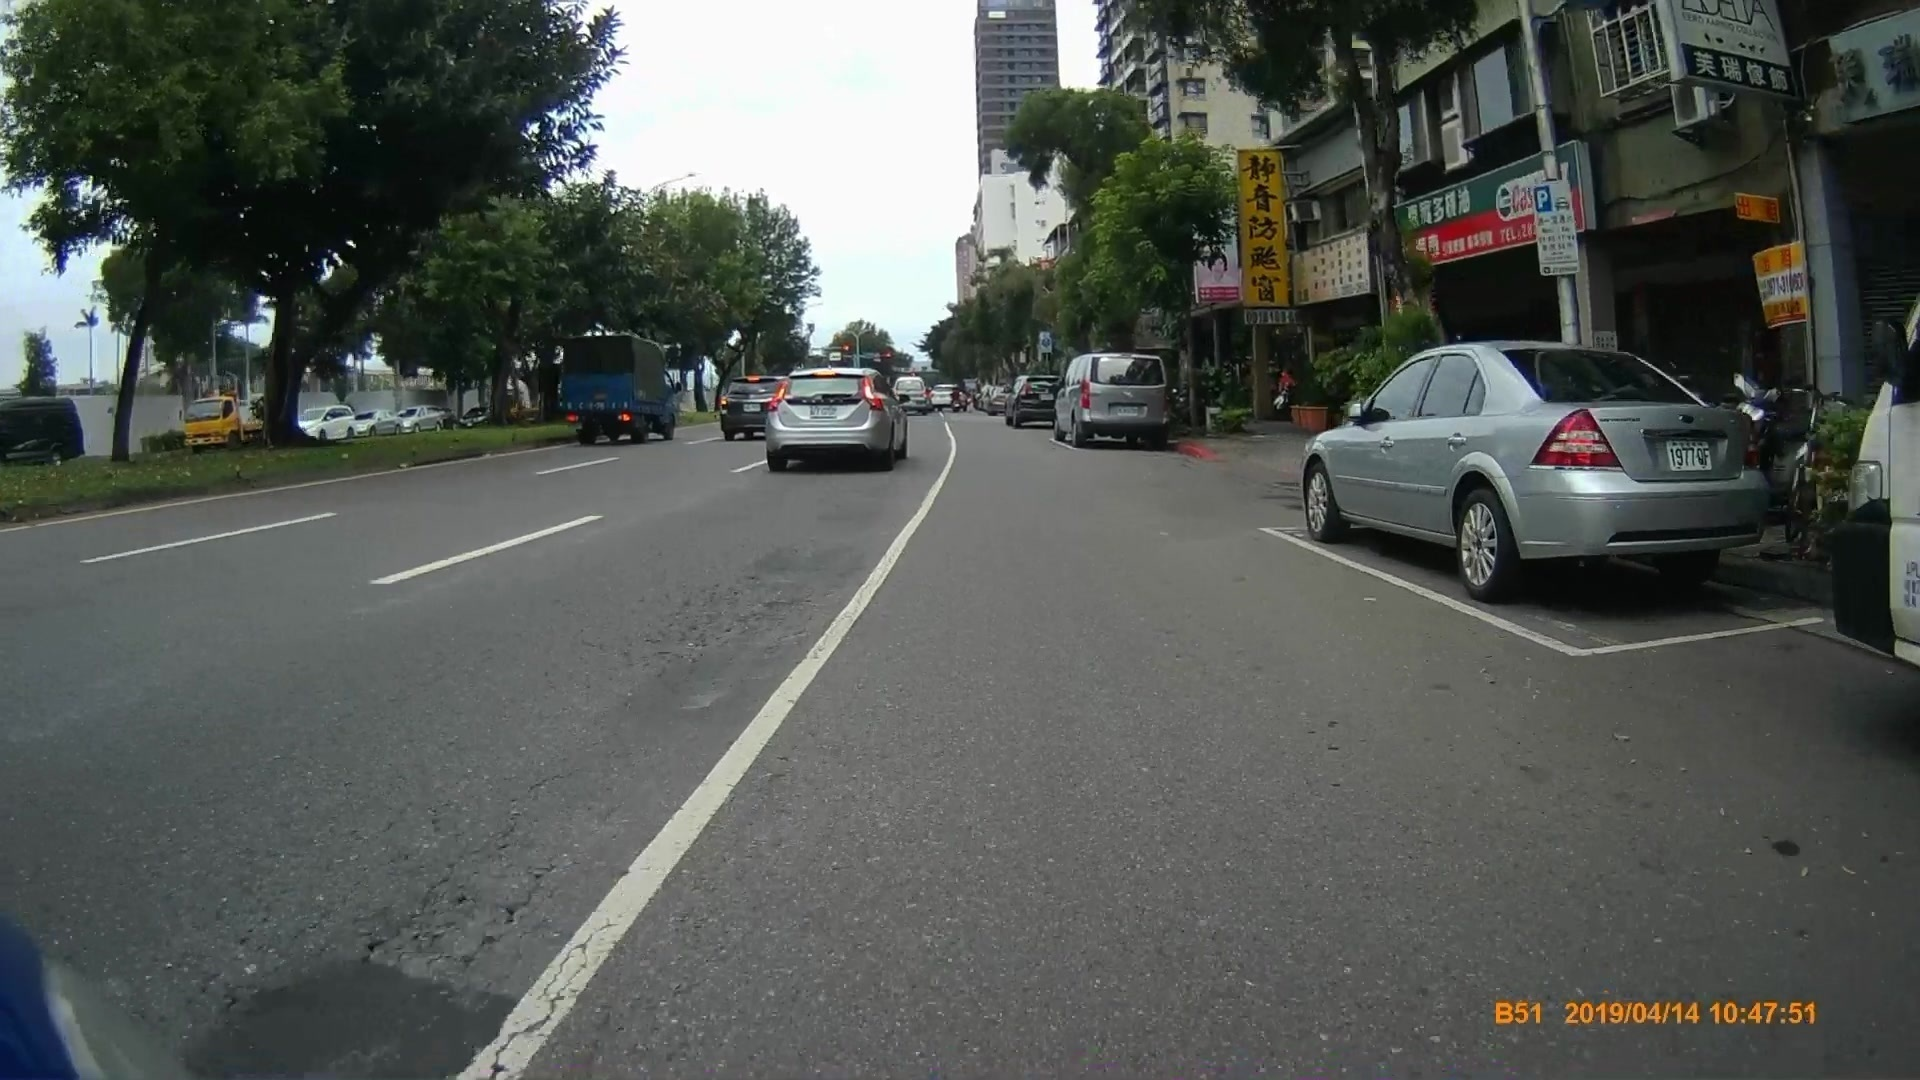License_plate: (1667, 435, 1719, 475), (806, 406, 838, 420)
